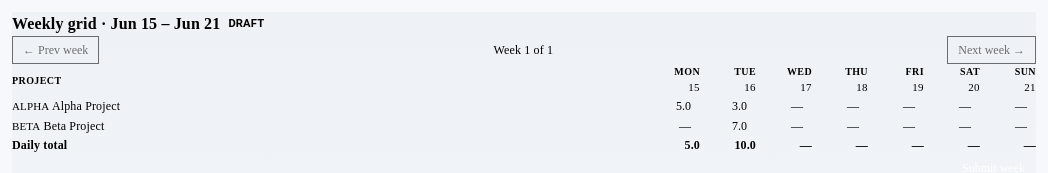
Test: TimeTab weekly grid › edits a cell + optimistically updates the Daily-total when commit succeeds
Check: the element with test id "me-time-weekly-grid" is shown, box [12,64,1036,154]
Click the button with class "ds-editable-cell" showing "5.0" at coordinates (668, 106), box [640,94,696,116]
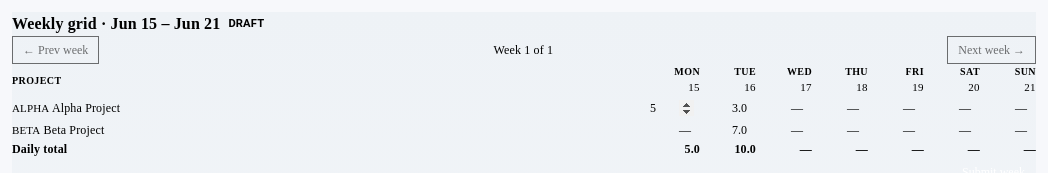
Replace the text in the number field showing "5" with "8" at coordinates (672, 108), box [644,96,700,120]
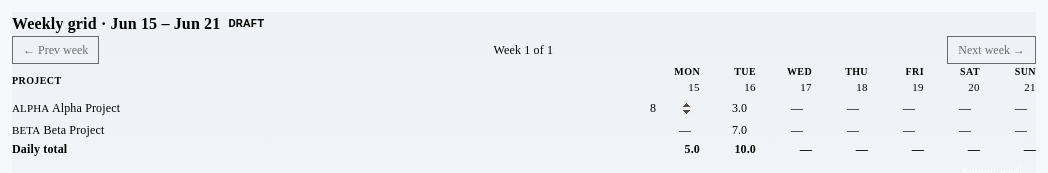
Leave the number field showing "5", box [644,96,700,120]
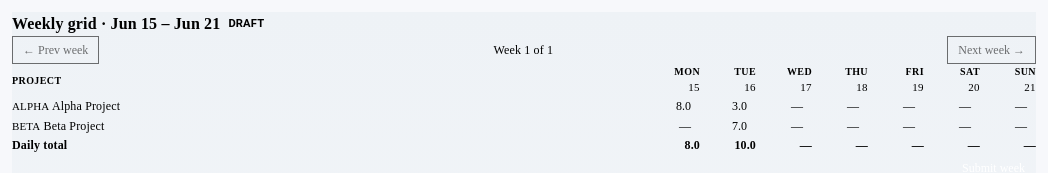
Check: the text "8.0" in the row of "Alpha Project" is shown, box [676,98,691,112]
